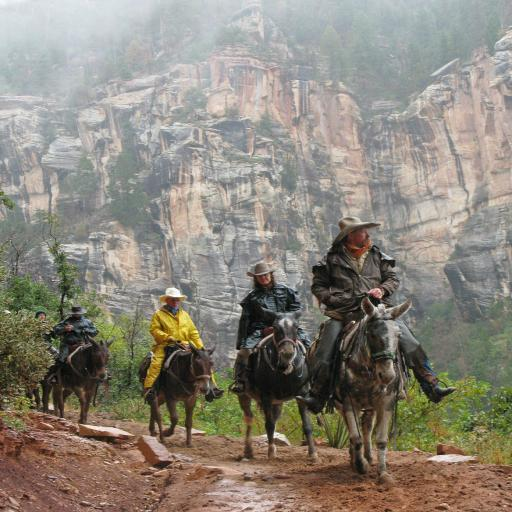horse: (330, 294, 414, 488), (232, 304, 321, 464), (138, 342, 219, 446), (42, 331, 116, 428)
